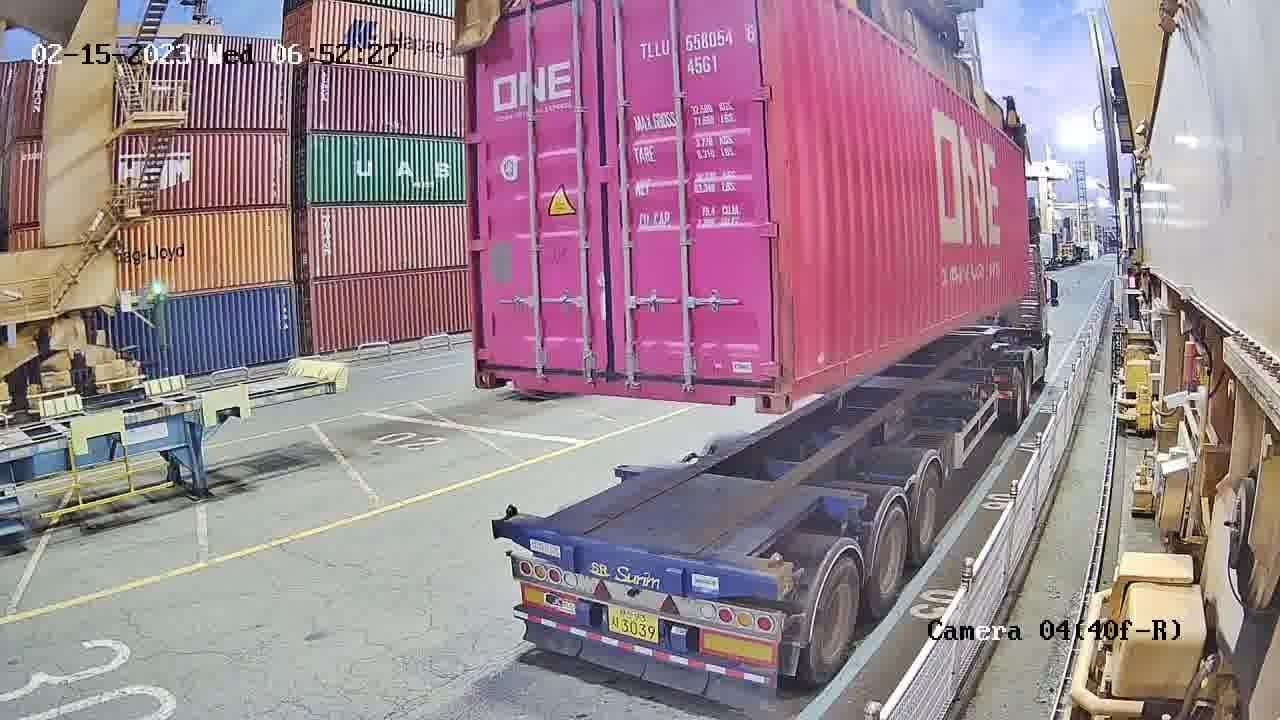Chassis: (494, 522, 788, 601)
Cone: (754, 551, 798, 597), (499, 502, 515, 523)
Hole_L: (779, 355, 816, 416), (470, 346, 516, 391)
Hole_R: (726, 367, 782, 420)
Tire: (806, 559, 862, 681), (870, 506, 910, 615), (913, 471, 948, 558)
